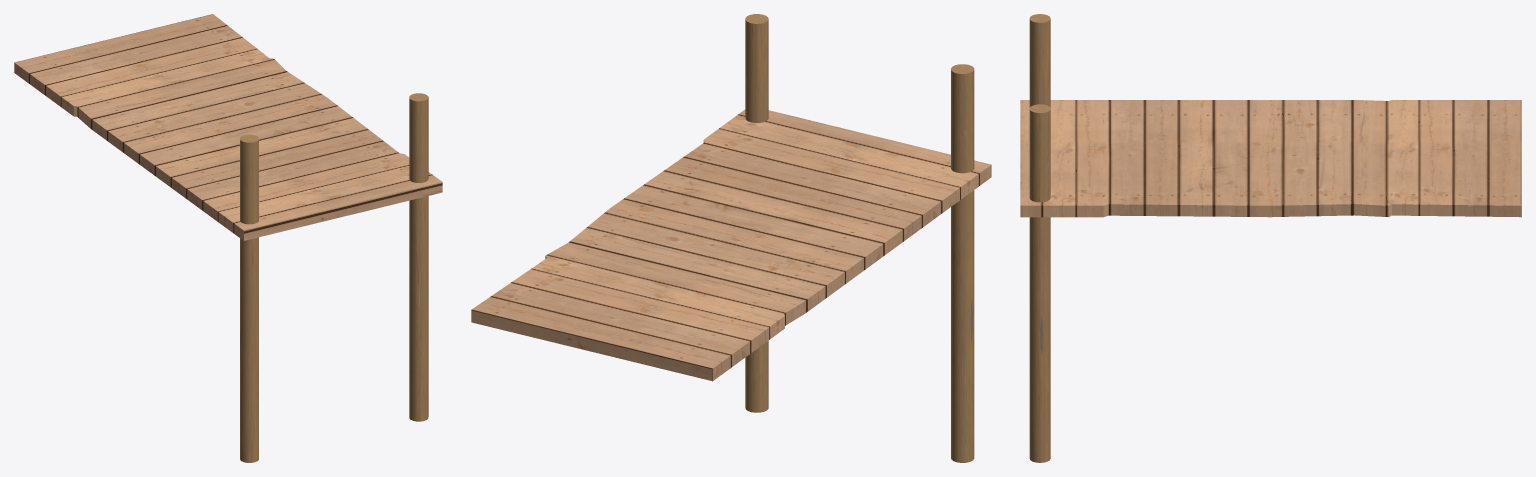
Rendered from WoodRoad1.fbx.
The picture shows the model from 3 angles, left to right: view 1: azimuth 30°, elevation 25°; view 2: azimuth 150°, elevation 25°; view 3: azimuth 270°, elevation 25°; orthographic projection. The views are drawn at different scales.
Parts seen in each view (by area): view 1: WoodRoad1; view 2: WoodRoad1; view 3: WoodRoad1.
Boxes of the visible parts, x1,y1,x2,y2 form: WoodRoad1: (14,14,442,462); WoodRoad1: (471,14,991,462); WoodRoad1: (1020,14,1521,462).
Size of the model in its own units: 200 by 308 by 400.
Materials: 2 (2 with a texture image).
